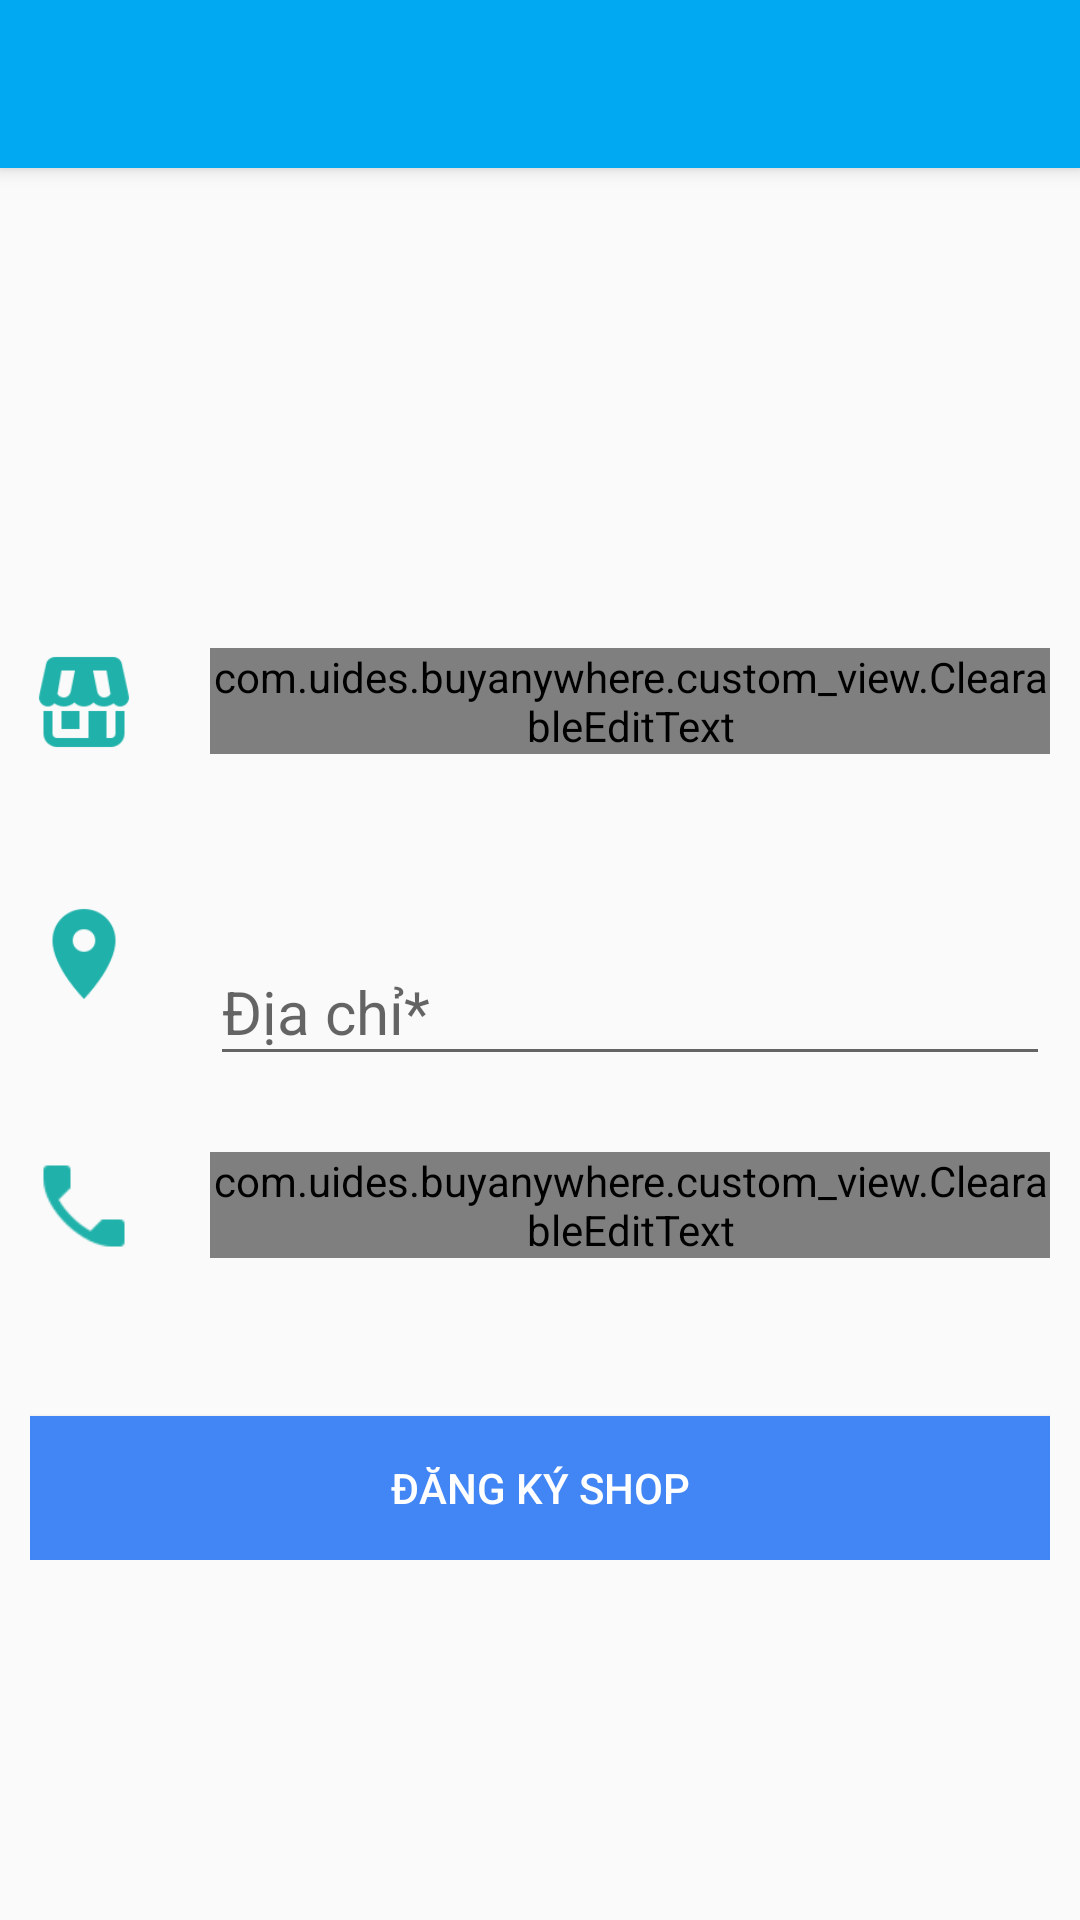

Named icons in this screenshot (1080w x 1920h) and their bounding boxes, (x1,y1,x2,y2):
address: (52,909,116,999)
phone: (43,1165,125,1247)
